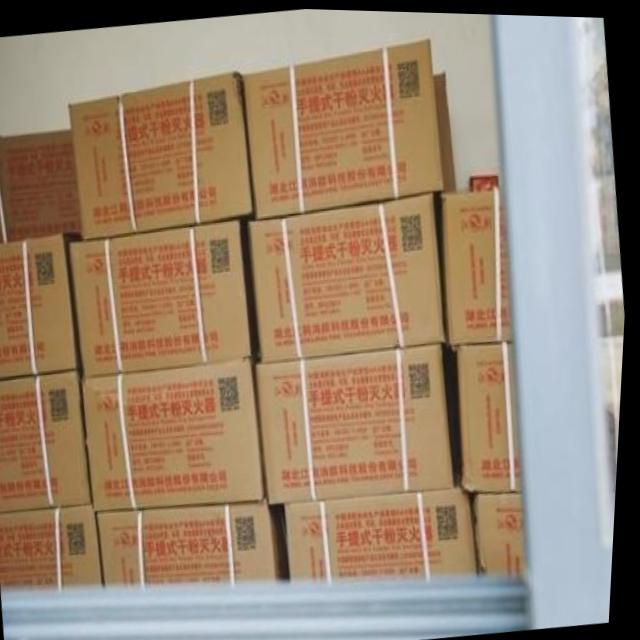box: (241, 35, 446, 217), (249, 188, 450, 358), (257, 341, 460, 502), (70, 69, 255, 240), (71, 217, 255, 374), (86, 356, 269, 511), (289, 481, 483, 579), (102, 498, 295, 584), (0, 369, 96, 514), (0, 234, 83, 380), (443, 183, 518, 342), (459, 337, 526, 490), (0, 130, 84, 242), (1, 504, 108, 588), (472, 488, 533, 570), (433, 70, 458, 191)
